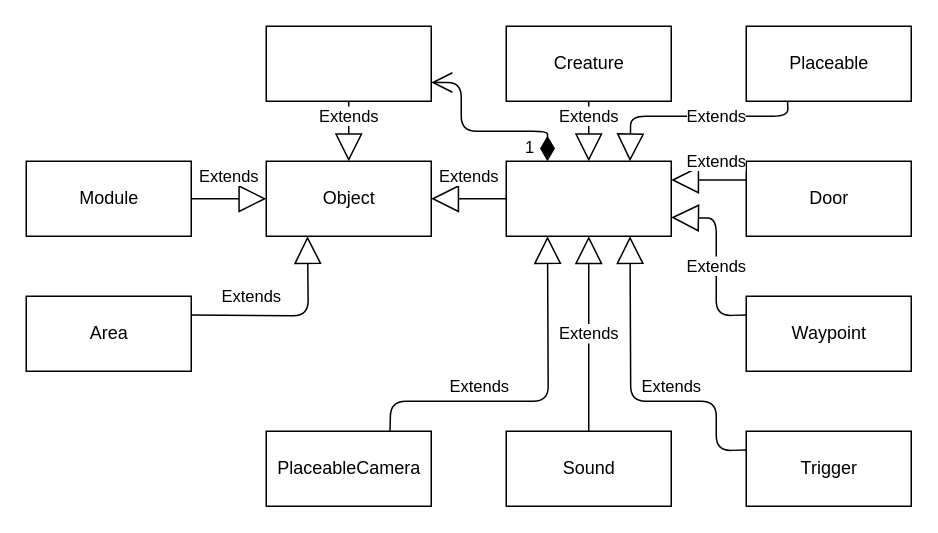
Some shapes in this 938 by 533 pixel diagram are drawn without their labels. The shapes that lost their labels are listed below. From the top down, each one's box as (x1, y1, x2, y2) in pixels, then its label:
(265, 25, 431, 101): Item
(505, 160, 671, 236): SpatialObject
